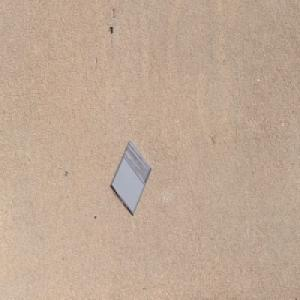PlasticPart: (110, 140, 152, 216)
